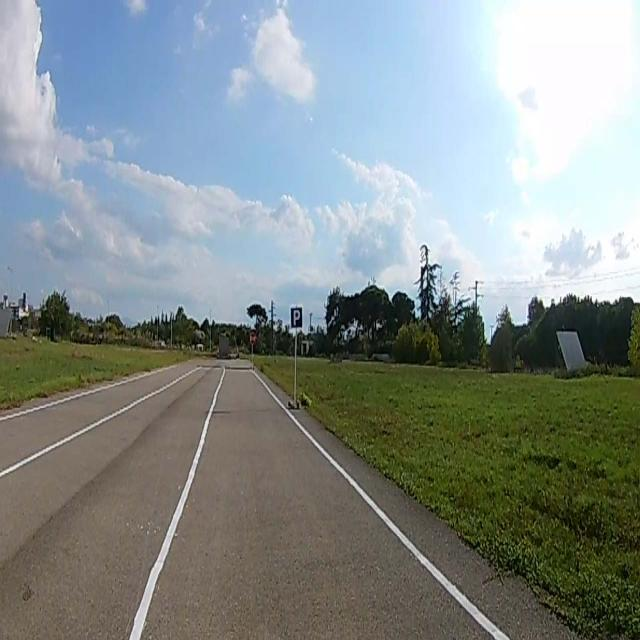park: (291, 308, 301, 326)
